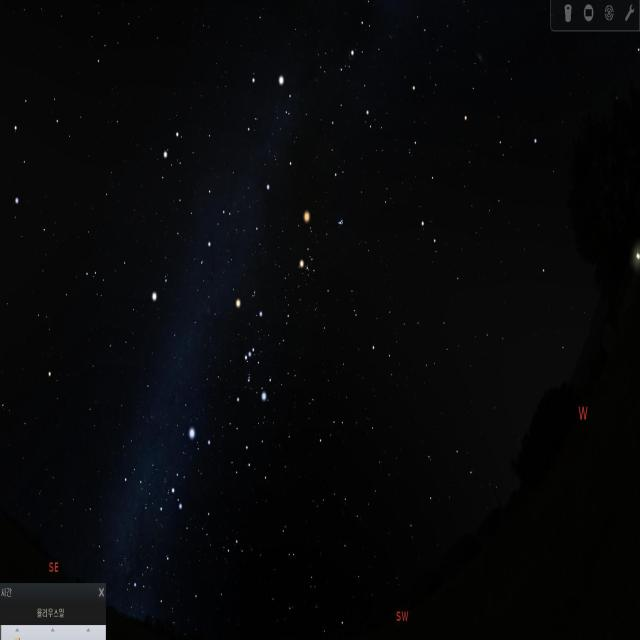canis_major: (165, 412, 216, 522)
canis_minor: (147, 274, 169, 309)
gemini: (142, 128, 238, 272)
orion: (231, 295, 273, 416)
pleiades: (334, 209, 346, 233)
taurus: (290, 207, 356, 307)
